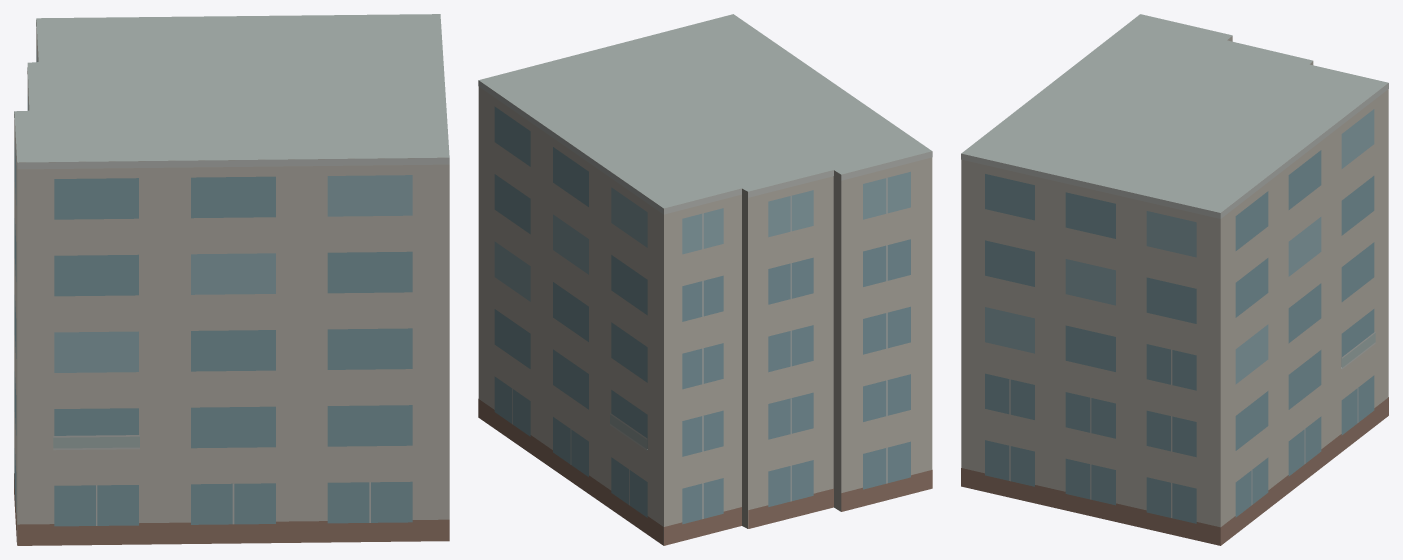
File: survey-upis-32492502.glb
3 views of the same model, side by side, from view 1: azimuth 30°, elevation 25°; view 2: azimuth 150°, elevation 25°; view 3: azimuth 270°, elevation 25° (orthographic). The views are drawn at different scales.
Visible parts, largest first — view 1: survey-upis-32492502.tmp; view 2: survey-upis-32492502.tmp; view 3: survey-upis-32492502.tmp.
Boxes of the visible parts, x1,y1,x2,y2 form: survey-upis-32492502.tmp: (14, 14, 449, 545); survey-upis-32492502.tmp: (478, 14, 932, 545); survey-upis-32492502.tmp: (961, 14, 1388, 545).
Bounding box in the file's own units: 17.19 × 13.4 × 15.61.
